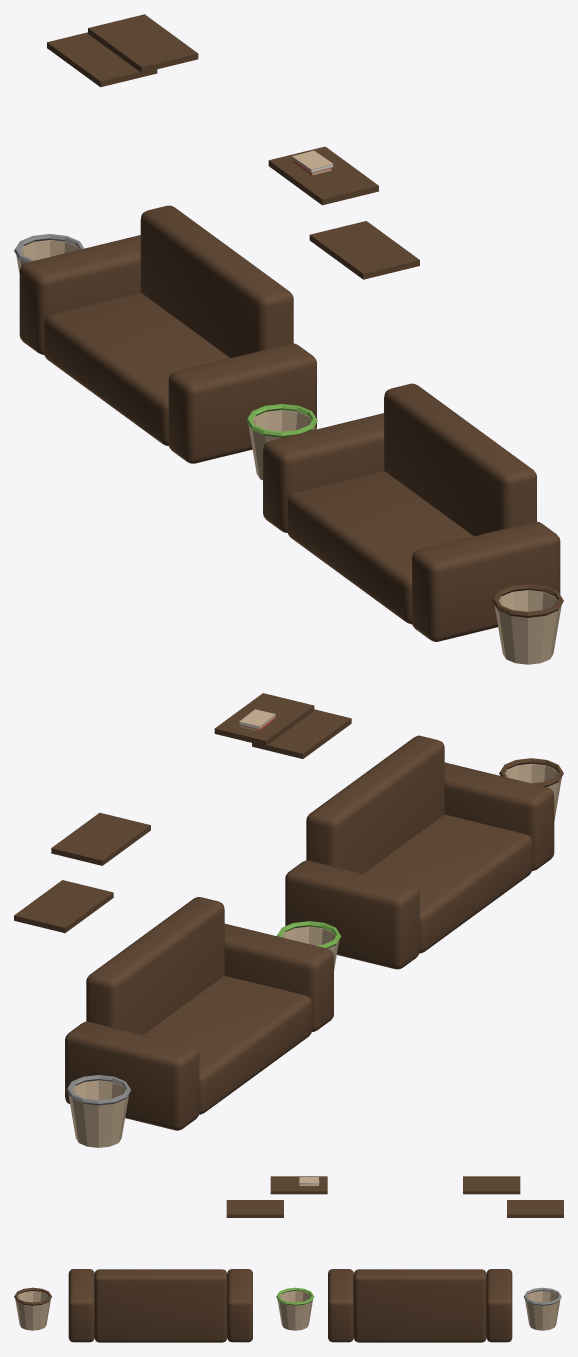
Rendered from couch and etc.fbx.
The picture shows the model from 3 angles, top to bottom: view 1: azimuth 30°, elevation 25°; view 2: azimuth 150°, elevation 25°; view 3: azimuth 270°, elevation 25°; orthographic projection. The views are drawn at different scales.
Visible parts, largest first — view 1: Куб.206, Куб.205, Куб.215, Куб.221, Цилиндр.037, Цилиндр.013, Цилиндр.036; view 2: Куб.206, Куб.205, Куб.221, Куб.215, Цилиндр.036, Цилиндр.037, Цилиндр.013; view 3: Куб.205, Куб.206, Куб.215, Куб.221, Цилиндр.037, Цилиндр.013, Цилиндр.036.
Part boxes in pixels (x1,y1,x2,y2): Куб.206: (263,383,560,641); Куб.205: (19,205,316,463); Куб.215: (268,146,419,279); Куб.221: (47,14,198,87); Цилиндр.037: (492,584,563,664); Цилиндр.013: (246,404,317,480); Цилиндр.036: (14,234,83,273); Куб.206: (285,735,554,969); Куб.205: (65,897,333,1130); Куб.221: (14,812,150,932); Куб.215: (214,693,351,758); Цилиндр.036: (66,1075,130,1147); Цилиндр.037: (499,758,563,820); Цилиндр.013: (277,921,341,970); Куб.205: (328,1269,512,1342); Куб.206: (68,1269,252,1342); Куб.215: (226,1176,327,1217); Куб.221: (463,1176,563,1217); Цилиндр.037: (14,1287,51,1330); Цилиндр.013: (276,1287,314,1330); Цилиндр.036: (523,1287,561,1330).
Size of the model in its own units: 8.16 by 16.98 by 53.8.
